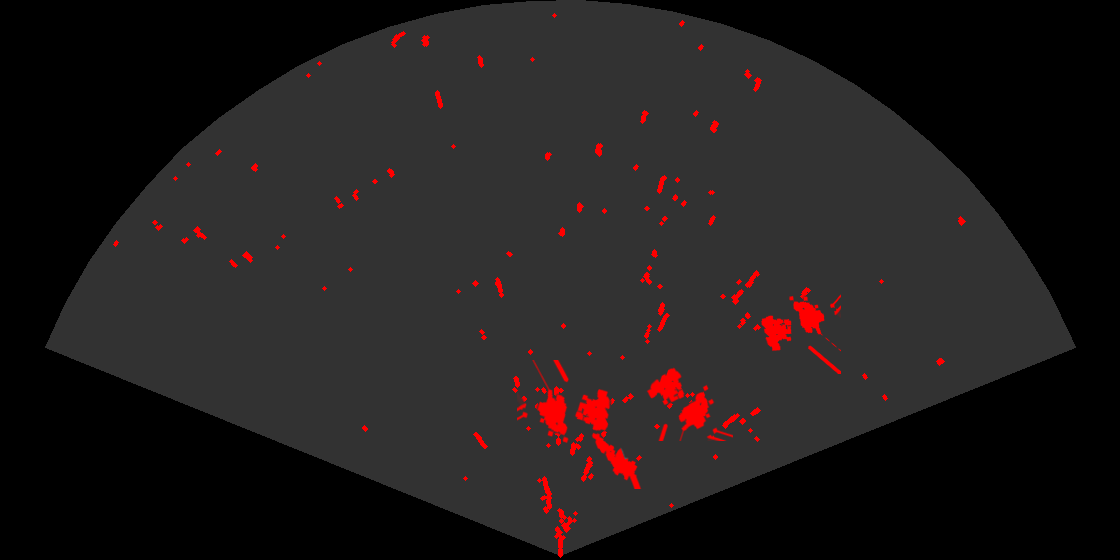cage: (517, 360, 612, 445), (645, 366, 733, 441), (760, 293, 841, 374)
frogman: (590, 431, 643, 489)
